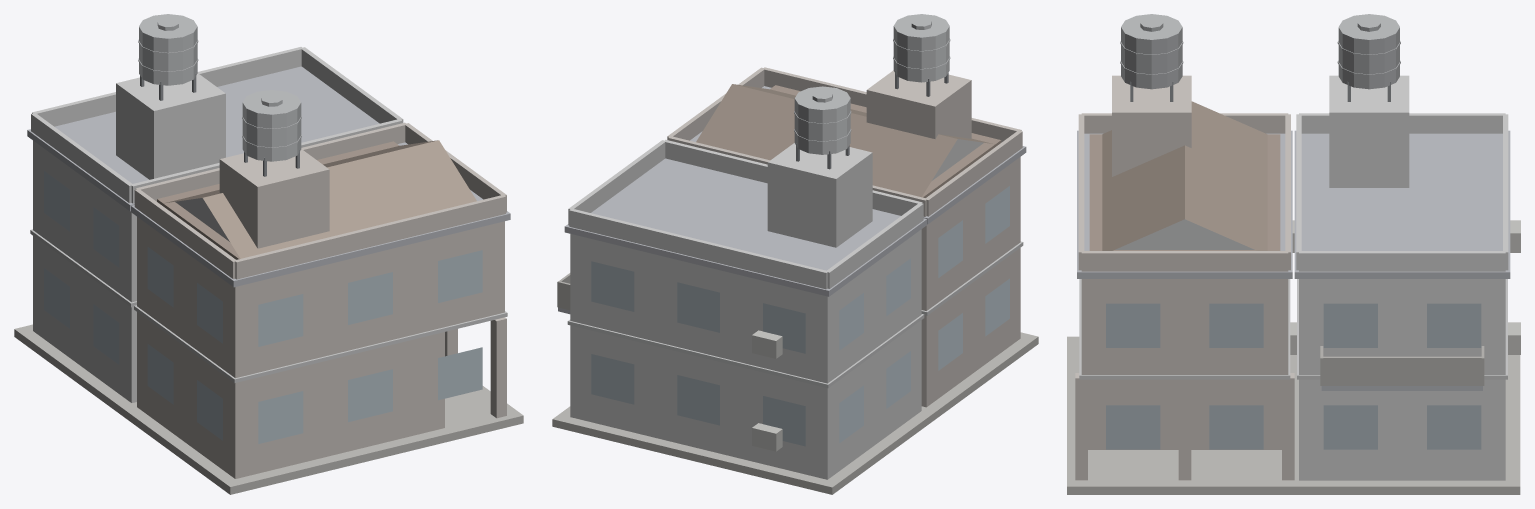
File: 07_residential_low-09.glb
The picture shows the model from 3 angles, left to right: view 1: azimuth 30°, elevation 25°; view 2: azimuth 150°, elevation 25°; view 3: azimuth 270°, elevation 25°; orthographic projection. The views are drawn at different scales.
Size of the model in its own units: 10.2 by 11.07 by 12.52.
